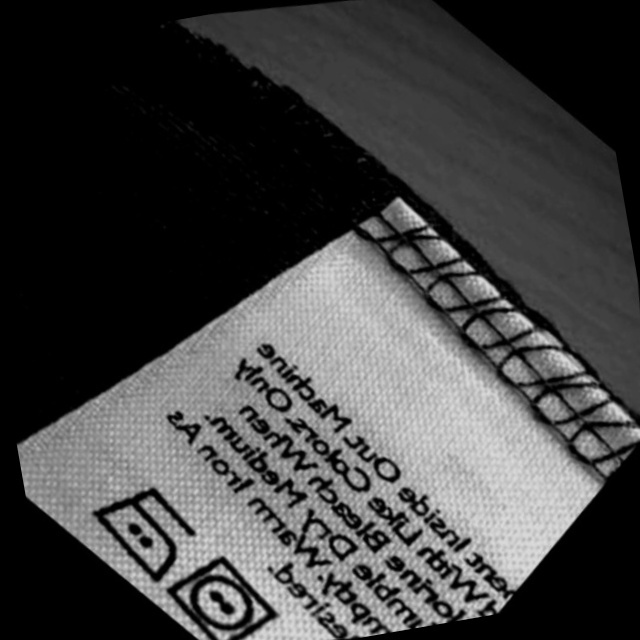iron_medium: (76, 474, 206, 594)
tumble_dry_medium: (153, 544, 286, 640)
